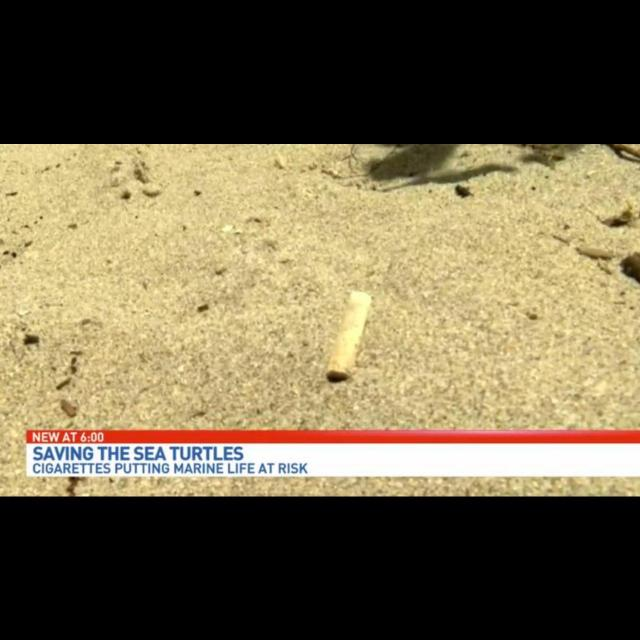cigarette: (326, 292, 372, 383)
